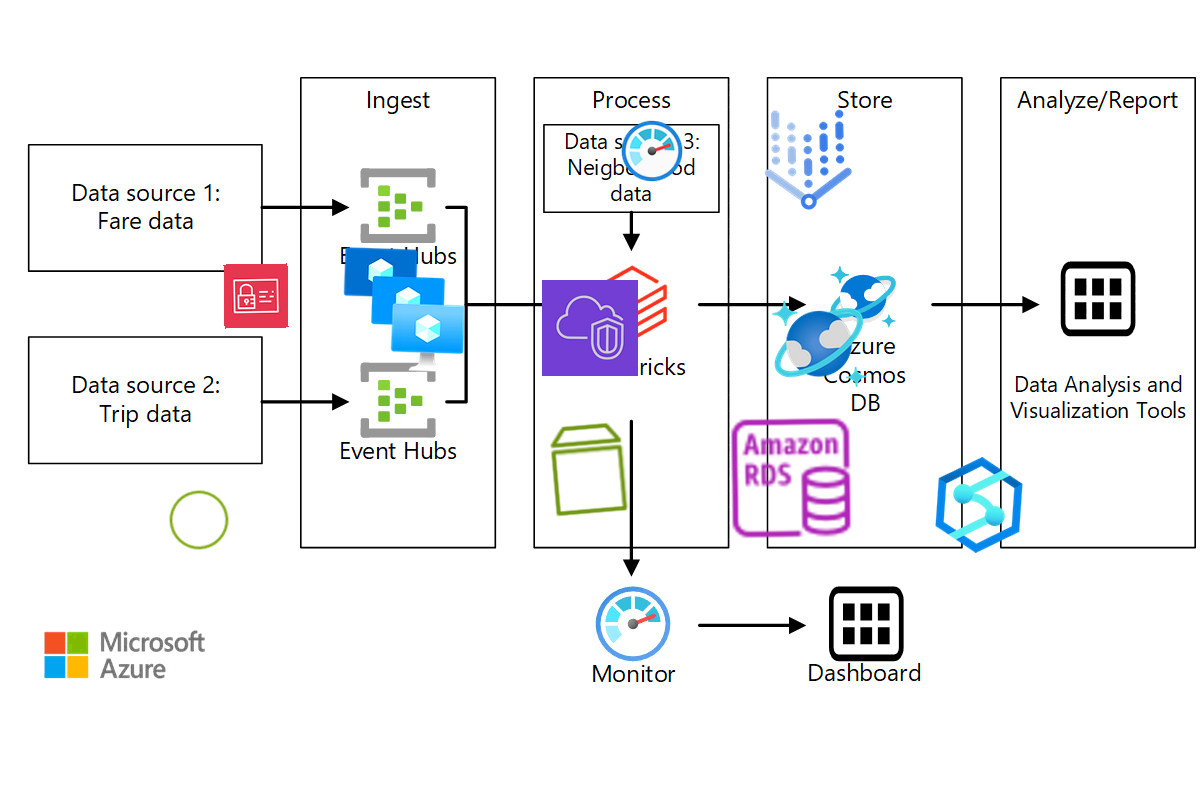aws_amazon_virtual_private_cloud: (541, 279, 639, 377)
aws_aurora_amazon_rds_instance: (726, 413, 856, 543)
aws_elastic_block_store_volume: (537, 417, 641, 521)
aws_identity_and_access_management: (223, 263, 289, 329)
aws_simple_storage_service_object: (165, 486, 233, 554)
azure_cosmos_db: (768, 293, 870, 395)
azure_monitor: (618, 117, 686, 185)
azure_synapse_analytics: (927, 453, 1031, 557)
azure_vm_scale_sets: (335, 240, 469, 374)
gcp_vertex_ai: (742, 94, 874, 226)
